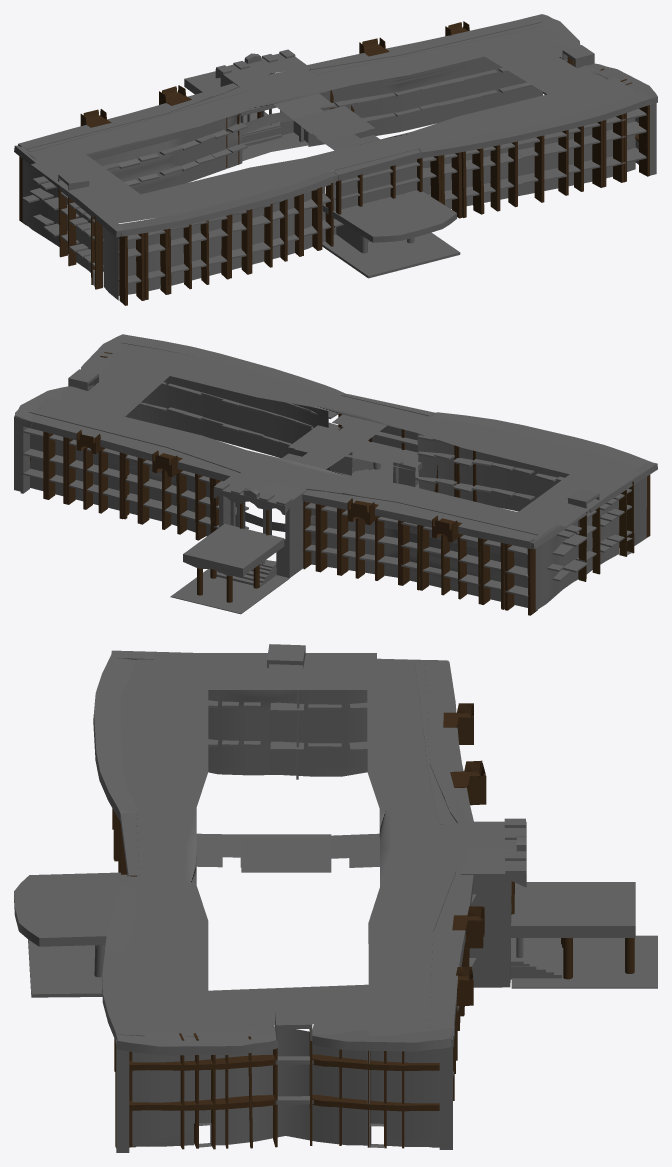
The picture shows the model from 3 angles, top to bottom: view 1: azimuth 30°, elevation 25°; view 2: azimuth 150°, elevation 25°; view 3: azimuth 270°, elevation 25°; orthographic projection. The views are drawn at different scales.
Parts seen in each view (by area): view 1: pCube1, pPlane10, pPlane11, pPlane4, pCube322, pCube35, pPlane3, pCube324, pPlane1, pCube323, pCube2, pCube325 (+42 smaller); view 2: pPlane10, pPlane11, pCube1, pPlane3, pPlane4, pCube2, pCube326, pPlane1, pCube325, pCube48, pCube6, pPlane19 (+44 smaller); view 3: pPlane10, pPlane11, pPlane2, pPlane1, pCube322, pCube48, pCube2, pCube325, pCube326, pCube6, pPlane15, pPlane19 (+23 smaller).
Boxes of the visible parts, x1,y1,x2,y2 form: pCube1: (27, 21, 542, 194); pPlane10: (112, 77, 635, 223); pPlane11: (20, 26, 563, 161); pPlane4: (118, 186, 325, 295); pCube322: (322, 190, 456, 242); pCube35: (322, 232, 460, 278); pPlane3: (422, 118, 635, 208); pCube324: (419, 92, 649, 158); pPlane1: (22, 153, 118, 300); pCube323: (119, 171, 337, 236); pCube2: (215, 53, 310, 161); pCube325: (307, 18, 543, 74); pPlane10: (104, 344, 638, 474); pPlane11: (37, 398, 556, 539); pCube1: (29, 412, 537, 610); pPlane3: (125, 376, 329, 469); pPlane4: (417, 433, 569, 511); pCube2: (213, 473, 306, 577); pCube326: (302, 485, 540, 548); pPlane1: (535, 477, 646, 610); pCube325: (19, 411, 244, 481); pCube48: (183, 523, 284, 576); pCube6: (170, 569, 289, 614); pPlane19: (88, 364, 169, 416); pPlane10: (120, 659, 208, 1033); pPlane11: (367, 660, 470, 1035); pPlane2: (132, 1029, 439, 1147); pPlane1: (208, 690, 367, 776); pCube322: (14, 872, 127, 946); pCube48: (511, 882, 635, 937); pCube2: (460, 821, 526, 987); pCube325: (418, 873, 473, 1046); pCube326: (414, 661, 473, 824); pCube6: (511, 935, 657, 988); pPlane15: (237, 653, 376, 689); pPlane19: (208, 984, 368, 1027).
Size of the model in its own units: 0.9737 by 0.1549 by 0.6693.
